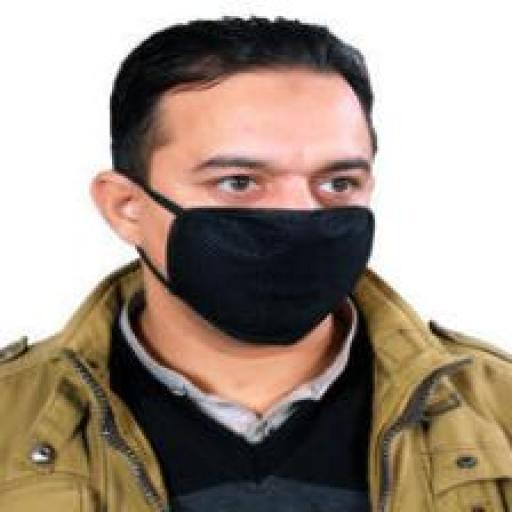mask: (157, 195, 386, 347)
